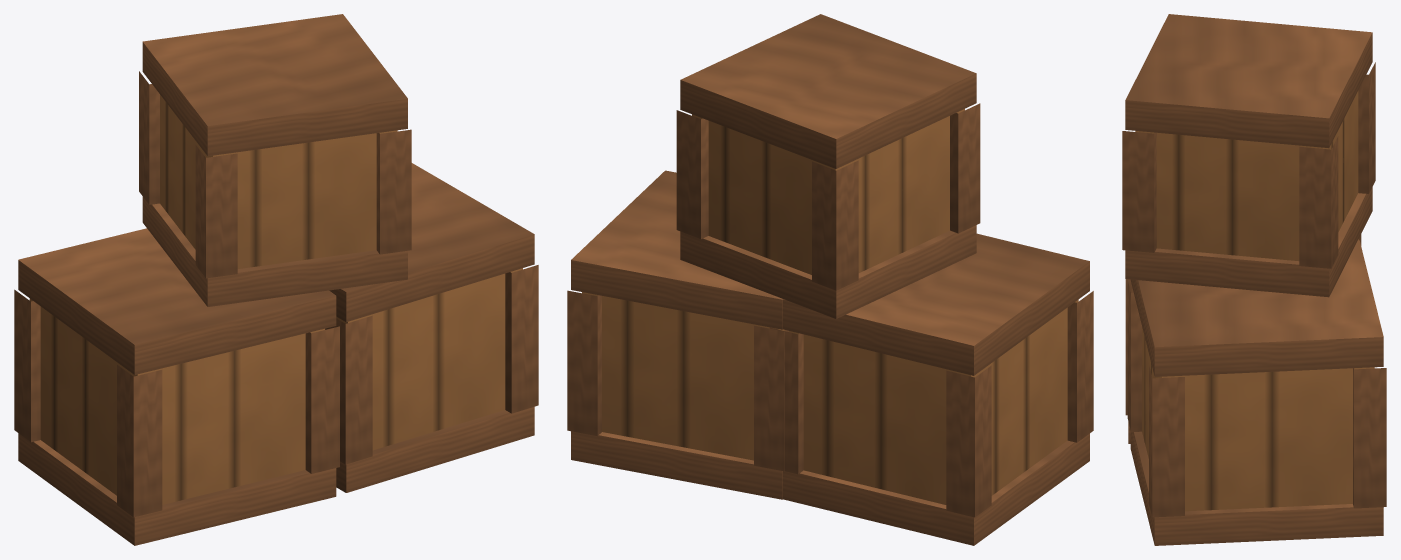
Rendered from prop_crate_stack_01.glb.
The picture shows the model from 3 angles, left to right: view 1: azimuth 30°, elevation 25°; view 2: azimuth 150°, elevation 25°; view 3: azimuth 270°, elevation 25°; orthographic projection.
Parts seen in each view (by area): view 1: prop_crate_stack_01; view 2: prop_crate_stack_01; view 3: prop_crate_stack_01.
Part boxes in pixels (x1,y1,x2,y2): prop_crate_stack_01: (14,14,538,545); prop_crate_stack_01: (567,14,1093,545); prop_crate_stack_01: (1122,14,1386,545).
Bounding box in the file's own units: 1.74 × 1.52 × 0.9652.
Materials: 1 (1 with a texture image).
